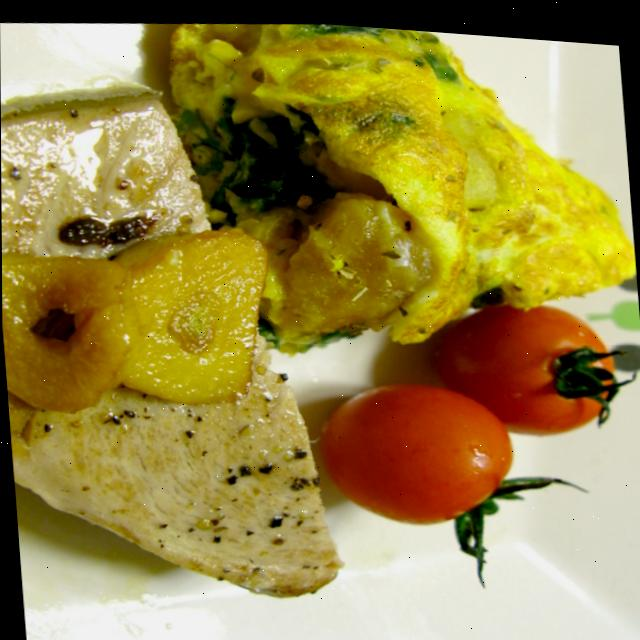鸡蛋料理: (160, 92, 639, 346)
